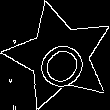O_NE: (26, 23, 93, 90)
